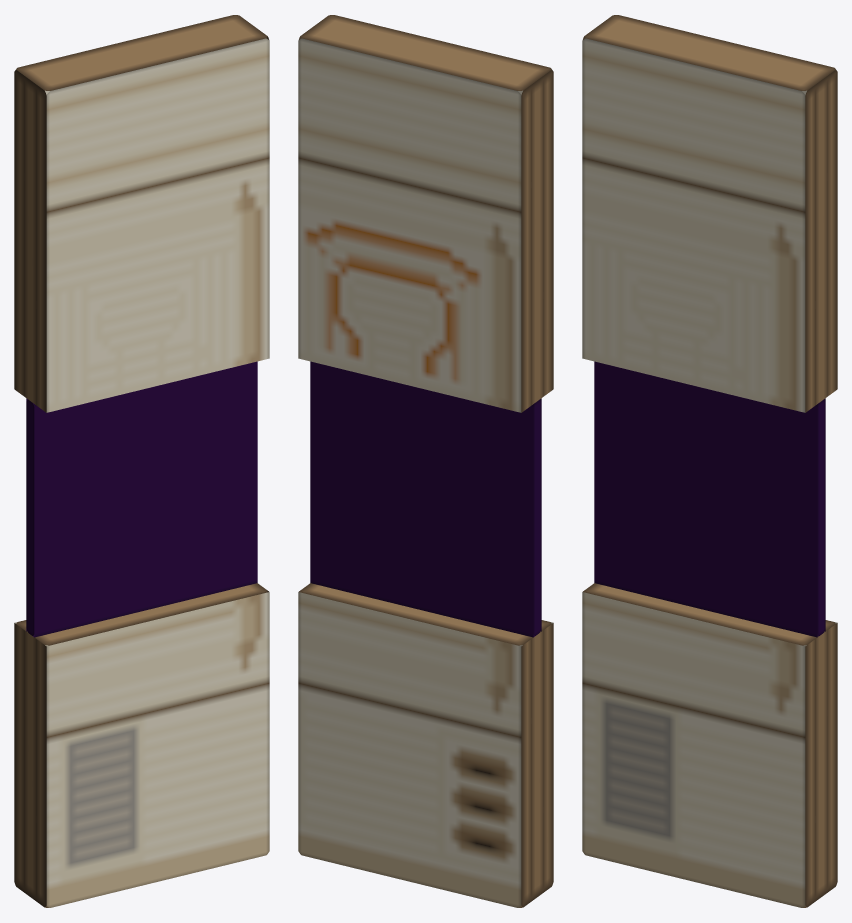
The model's file is tile_wall_window_m.obj.
3 views of the same model, side by side, from view 1: azimuth 30°, elevation 25°; view 2: azimuth 150°, elevation 25°; view 3: azimuth 330°, elevation 25° (orthographic).
Visible parts, largest first — view 1: wall_u, wall_l, window; view 2: wall_u, wall_l, window; view 3: wall_u, wall_l, window.
Part boxes in pixels (left/top/right/bottom): wall_u: left=14, top=15, right=269, bottom=412; wall_l: left=14, top=583, right=269, bottom=907; window: left=26, top=361, right=257, bottom=637; wall_u: left=298, top=15, right=553, bottom=412; wall_l: left=298, top=583, right=553, bottom=907; window: left=310, top=361, right=541, bottom=637; wall_u: left=582, top=15, right=837, bottom=412; wall_l: left=582, top=583, right=837, bottom=907; window: left=594, top=361, right=825, bottom=637.
Bounding box in the file's own units: 1 × 3.5 × 0.25.
1 material, 1 textured.
